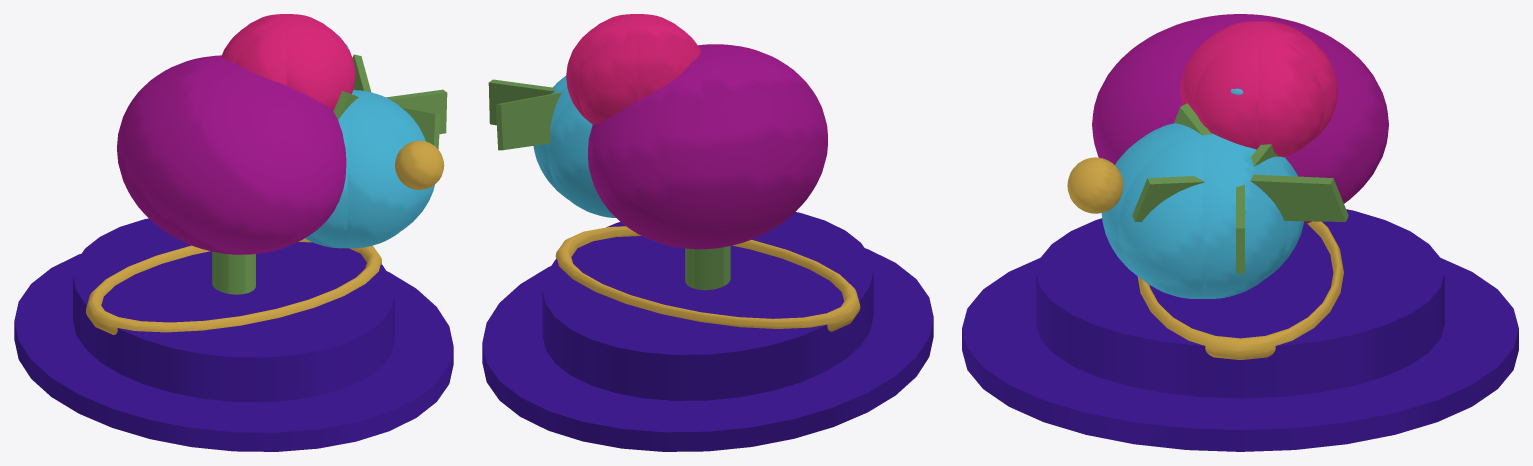
File: 0106_植物图鉴_仙人掌.glb
3 renders of one model, left to right at view 1: azimuth 30°, elevation 25°; view 2: azimuth 150°, elevation 25°; view 3: azimuth 270°, elevation 25°, orthographic. The views are drawn at different scales.
Parts seen in each view (by area): view 1: card_0106; view 2: card_0106; view 3: card_0106.
Boxes of the visible parts, <box> form: card_0106: <box>14,14,453,451</box>; card_0106: <box>482,14,933,451</box>; card_0106: <box>962,14,1518,451</box>.
Bounding box in the file's own units: 1.33 × 1 × 1.42.
